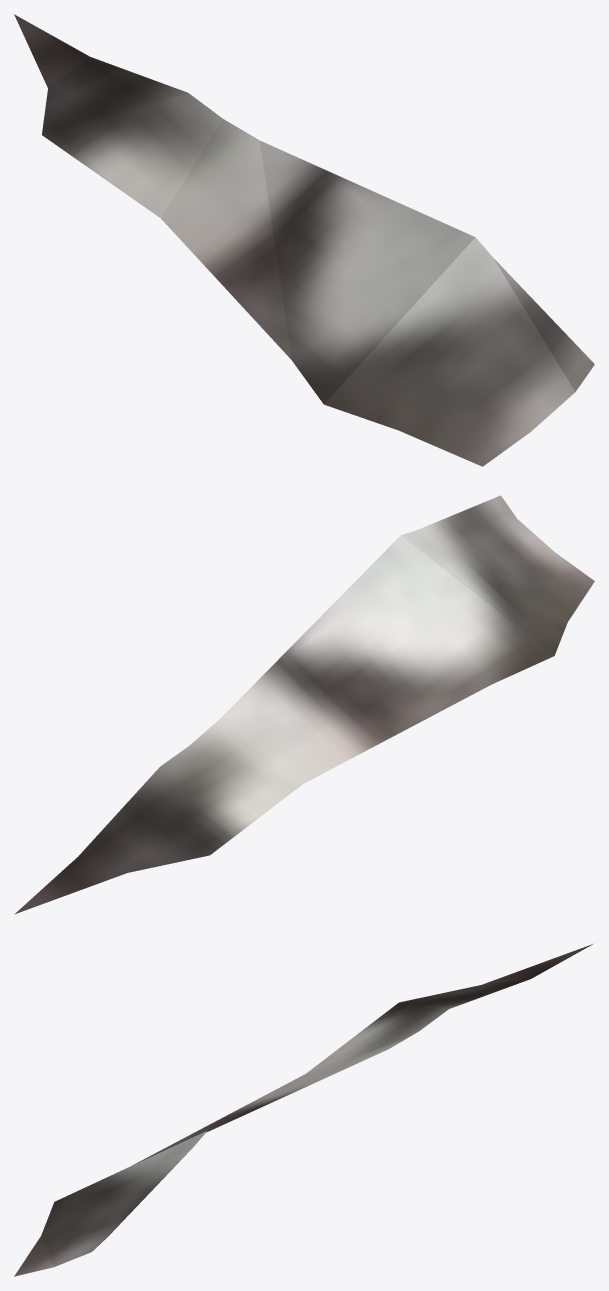
The picture shows the model from 3 angles, top to bottom: view 1: azimuth 30°, elevation 25°; view 2: azimuth 150°, elevation 25°; view 3: azimuth 330°, elevation 25°; orthographic projection. The views are drawn at different scales.
Bounding box in the file's own units: 0.0576 × 0.0377 × 0.3455.
Materials: 1 (1 with a texture image).
